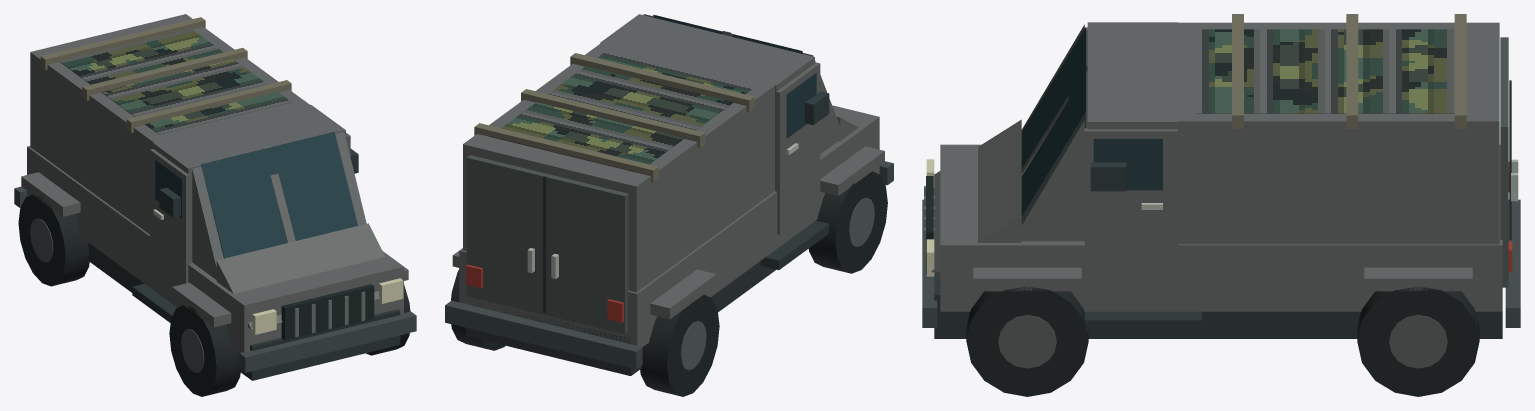
File: CMU3DReduxVehicleCLFVan.glb
3 renders of one model, left to right at view 1: azimuth 30°, elevation 25°; view 2: azimuth 150°, elevation 25°; view 3: azimuth 270°, elevation 25°, orthographic. The views are drawn at different scales.
Parts seen in each view (by area): view 1: enclosed rear body, windshield, lower vehicle body, source roof livery, rubber road tire (×3), front hood, cab bulkhead, canvas roof hoop (×3), cab door skin, bumper, sealed chassis, sloping cab frame (+8 smaller); view 2: enclosed rear body, rear double doors, source roof livery, lower vehicle body, rubber road tire (×3), cab bulkhead, canvas roof hoop (×3), cab door skin, bumper, wheel fender (×2), sealed chassis, recessed metal wheel hub (×2) (+6 smaller); view 3: enclosed rear body, lower vehicle body, source roof livery, rubber road tire (×2), cab door skin, cab bulkhead, sealed chassis, front hood, windshield, wheel fender (×2), sloping cab frame, recessed metal wheel hub (×2) (+7 smaller).
Part boxes in pixels (<box>): enclosed rear body: <box>30,14,309,234</box>; windshield: <box>201,131,357,258</box>; lower vehicle body: <box>27,146,403,352</box>; source roof livery: <box>59,29,291,134</box>; rubber road tire (×3): <box>18,194,410,396</box>; front hood: <box>216,223,385,329</box>; cab bulkhead: <box>153,105,345,262</box>; canvas roof hoop (×3): <box>40,17,291,132</box>; cab door skin: <box>150,149,190,292</box>; bumper: <box>239,311,416,372</box>; sealed chassis: <box>88,242,400,380</box>; sloping cab frame: <box>192,132,366,282</box>; enclosed rear body: <box>463,43,774,292</box>; rear double doors: <box>466,155,628,334</box>; source roof livery: <box>490,51,754,172</box>; lower vehicle body: <box>459,105,879,346</box>; rubber road tire (×3): <box>451,171,887,396</box>; cab bulkhead: <box>600,14,814,190</box>; canvas roof hoop (×3): <box>474,53,754,182</box>; cab door skin: <box>775,62,820,234</box>; bumper: <box>445,300,642,368</box>; wheel fender (×2): <box>650,146,884,319</box>; sealed chassis: <box>466,261,775,375</box>; recessed metal wheel hub (×2): <box>680,197,874,370</box>; enclosed rear body: <box>1163,22,1499,244</box>; lower vehicle body: <box>940,144,1502,311</box>; source roof livery: <box>1196,29,1454,113</box>; rubber road tire (×2): <box>966,286,1479,396</box>; cab door skin: <box>1084,128,1177,296</box>; cab bulkhead: <box>1087,22,1177,129</box>; sealed chassis: <box>934,272,1502,338</box>; front hood: <box>931,119,1021,272</box>; windshield: <box>1021,27,1085,216</box>; wheel fender (×2): <box>973,267,1472,291</box>; sloping cab frame: <box>1014,24,1084,241</box>; recessed metal wheel hub (×2): <box>998,315,1447,368</box>.
Size of the model in its own units: 1.45 by 1.48 by 2.95.
20 materials, 1 textured.
